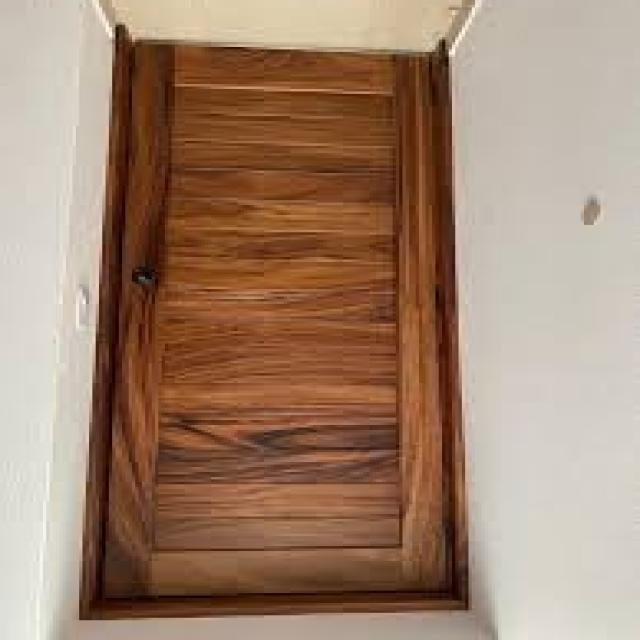door: (84, 40, 464, 620)
